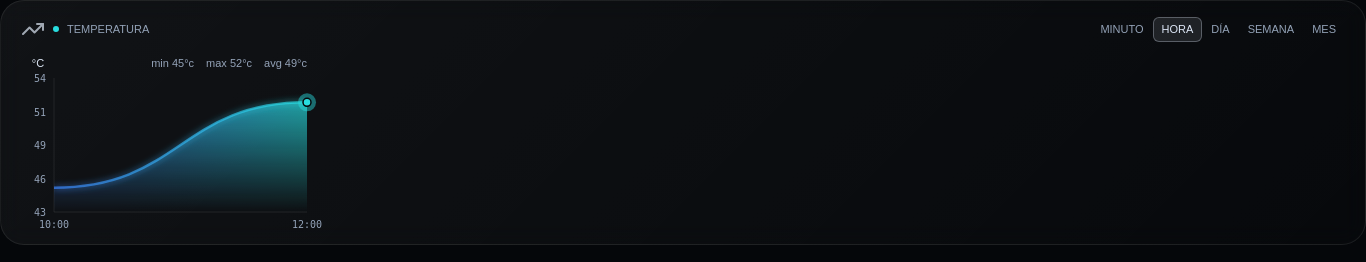
Test case: TrendChartWidget › maps a finalized compatible response exactly once after rejecting its placeholder
Click the button "Día". click: coordinates (1220, 29)
box: [1202,17,1239,42]
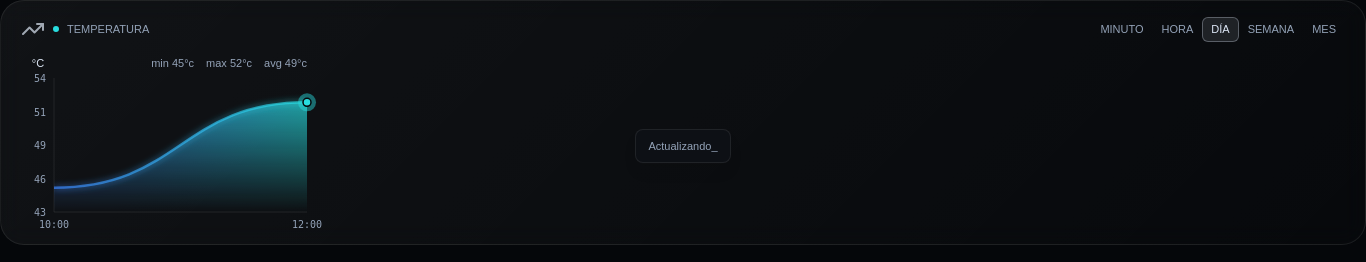
Now the message with test id "trend-chart-historical-notice" reads "Actualizando_", box [635,129,730,163]
